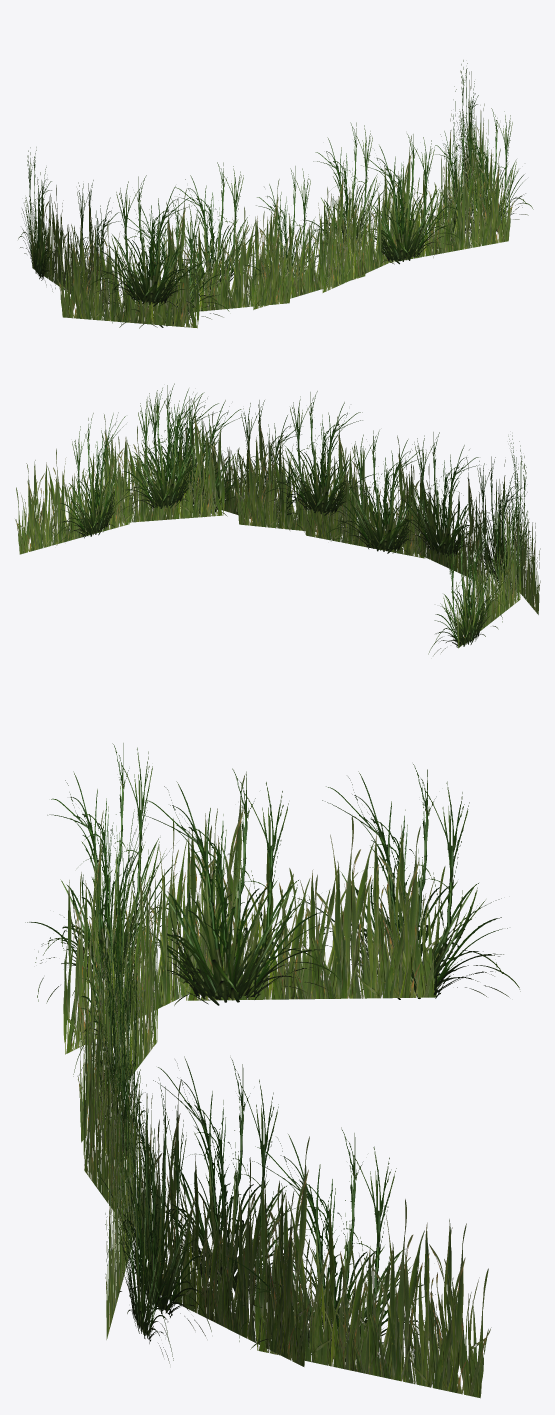
The model's file is Grass03.fbx.
3 renders of one model, top to bottom at view 1: azimuth 30°, elevation 25°; view 2: azimuth 150°, elevation 25°; view 3: azimuth 270°, elevation 25°, orthographic. The views are drawn at different scales.
Visible parts, largest first — view 1: Bush; view 2: Bush; view 3: Bush.
Part boxes in pixels (left/top/right/bottom): Bush: left=18, top=60, right=533, bottom=328; Bush: left=15, top=383, right=540, bottom=655; Bush: left=25, top=743, right=520, bottom=1398.
Bounding box in the file's own units: 2.48 × 1.29 × 0.7982.
2 materials, 2 textured.
